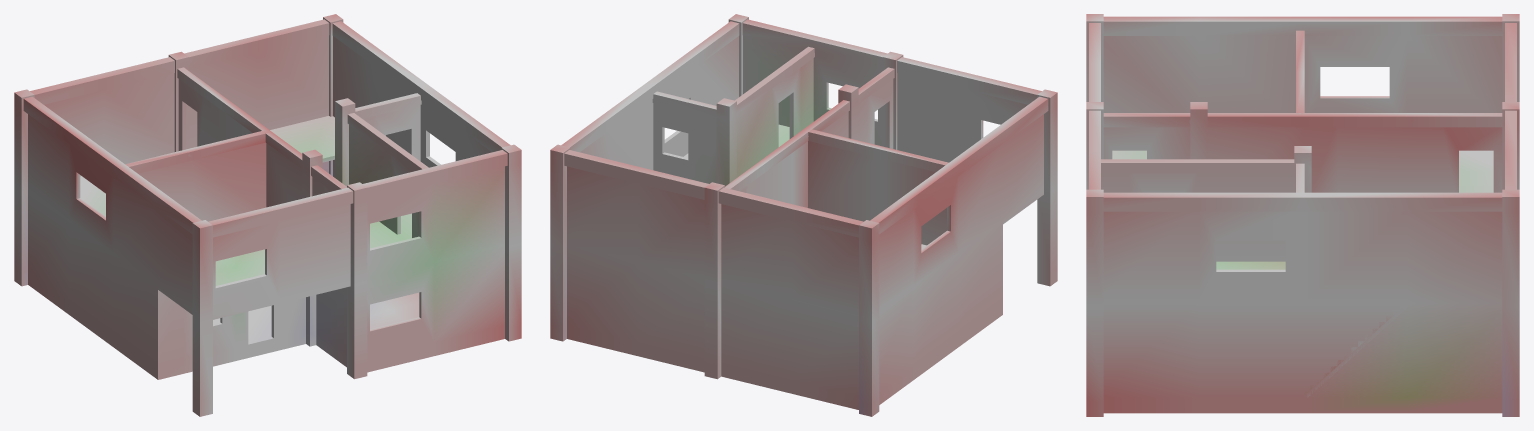
3 renders of one model, left to right at view 1: azimuth 30°, elevation 25°; view 2: azimuth 150°, elevation 25°; view 3: azimuth 270°, elevation 25°, orthographic. The views are drawn at different scales.
Visible parts, largest first — view 1: Structures_7; view 2: Structures_7; view 3: Structures_7.
Part boxes in pixels (left/top/right/bottom): Structures_7: left=14, top=14, right=521, bottom=416; Structures_7: left=550, top=14, right=1057, bottom=416; Structures_7: left=1086, top=14, right=1519, bottom=416.
Size of what is drawn, in the model's own units: 12.5 by 7 by 12.5.
